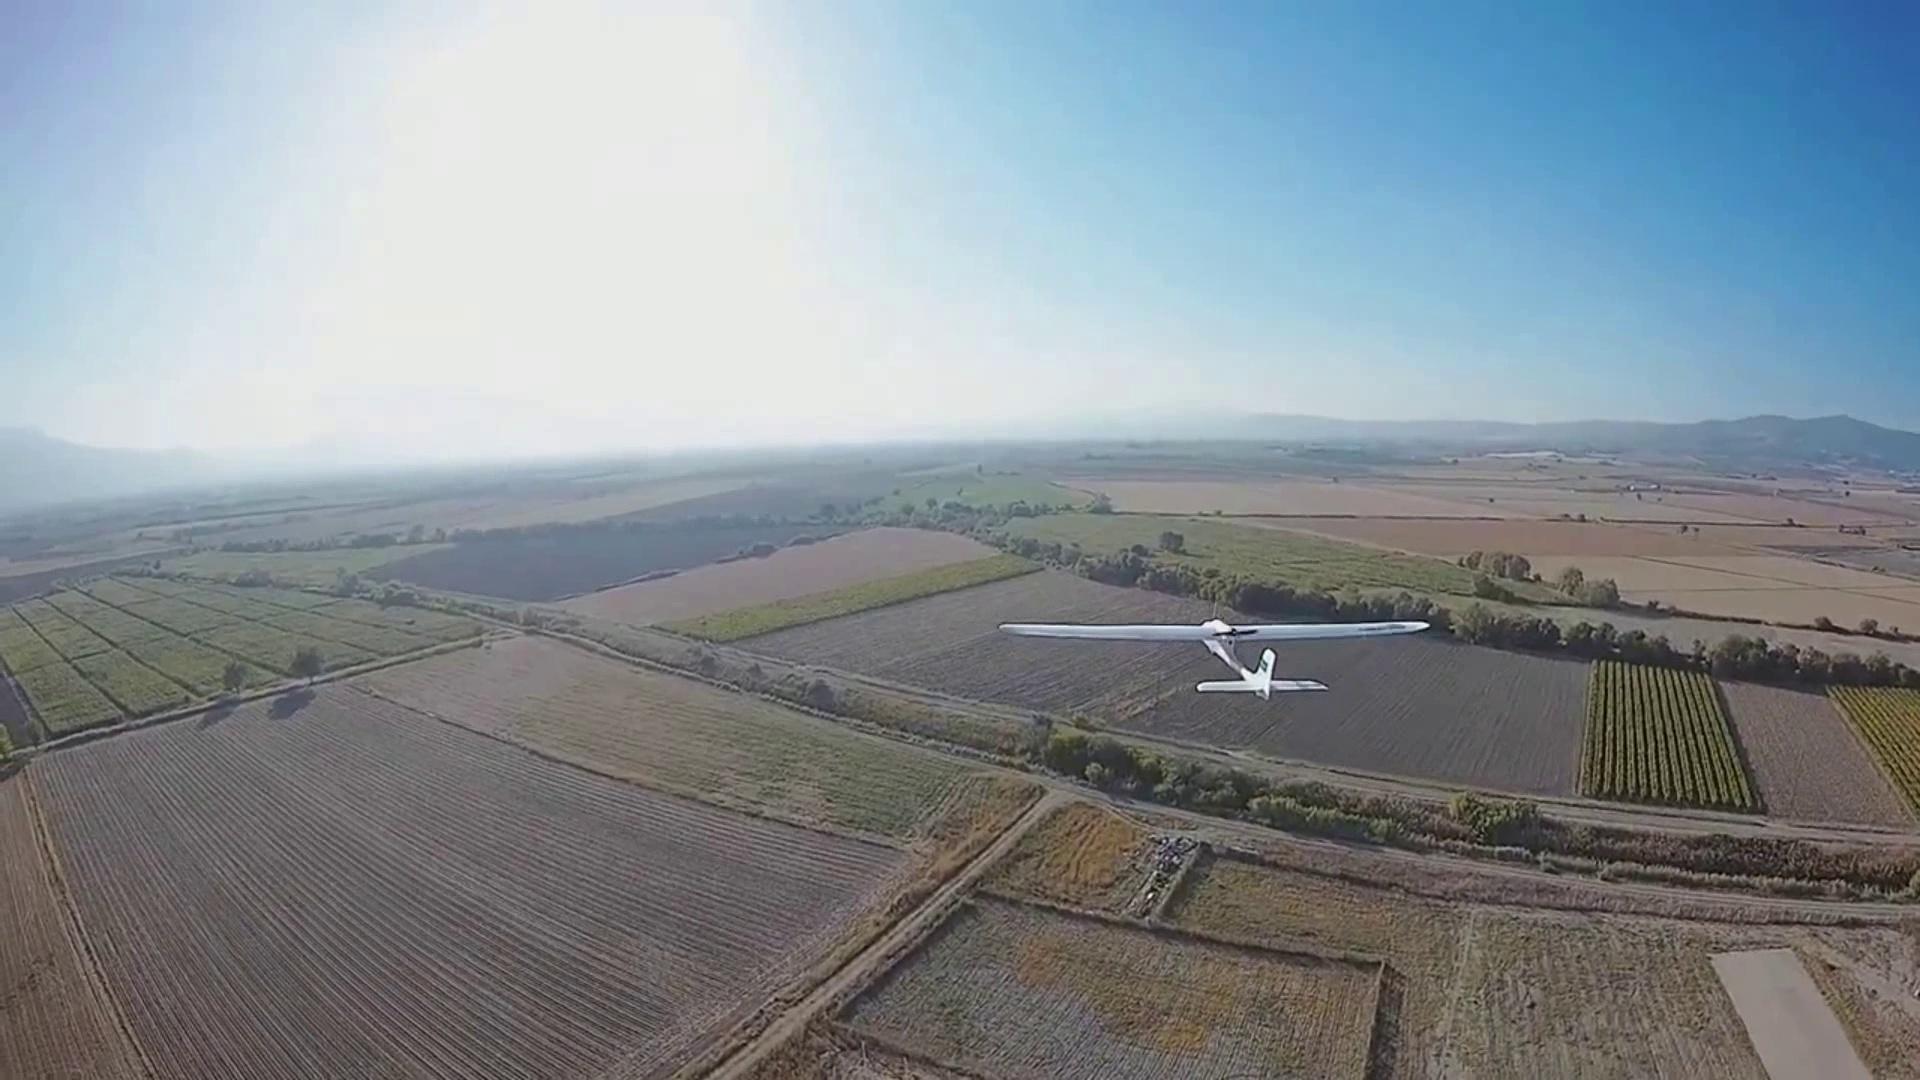airplane: (1196, 623, 1331, 700), (1197, 621, 1279, 698)
